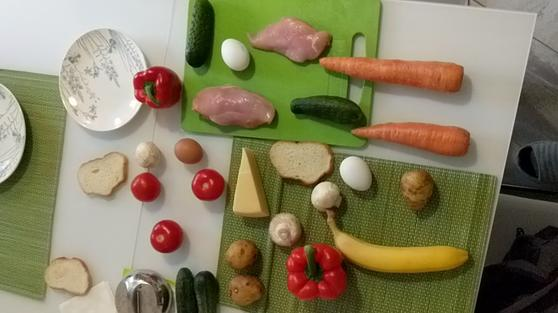banana: (327, 216, 472, 273)
carrot: (318, 52, 467, 91), (356, 122, 471, 152)
champignon: (267, 210, 305, 249), (311, 179, 343, 215), (135, 139, 161, 167)
cheese: (229, 149, 271, 215)
chicken_fillet: (192, 81, 279, 130), (255, 17, 334, 65)
cucumber: (293, 94, 368, 126), (184, 1, 214, 68), (171, 268, 196, 313), (197, 268, 218, 313)
egg: (338, 152, 374, 194), (222, 36, 251, 73), (172, 137, 202, 164)
pepper: (285, 242, 352, 299), (132, 66, 183, 110)
potato: (400, 166, 436, 210), (230, 277, 266, 310), (222, 242, 261, 272)
tomato: (149, 217, 185, 255), (191, 168, 224, 202), (132, 174, 162, 203)
white_bread: (272, 139, 335, 184), (88, 149, 128, 201)
